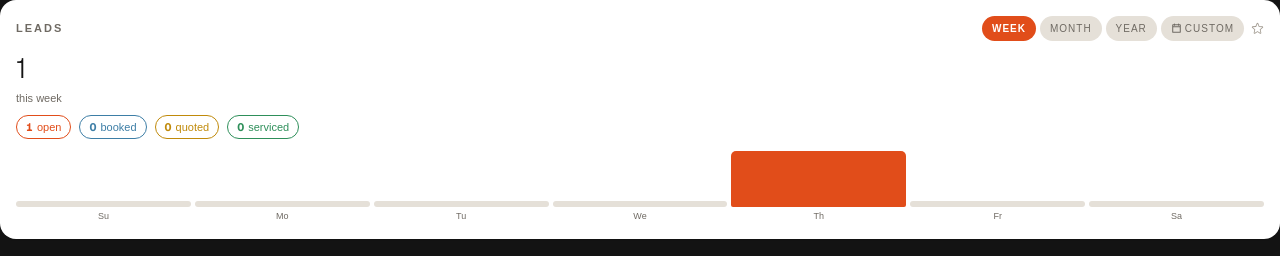
Scenario: TrendCard › headline caption follows the selected period
The image size is (1280, 256).
Expected: the text "this week" is shown, [16,92,62,104]
Click the button "MONTH".
click(1071, 28)  # box [1040,16,1102,41]
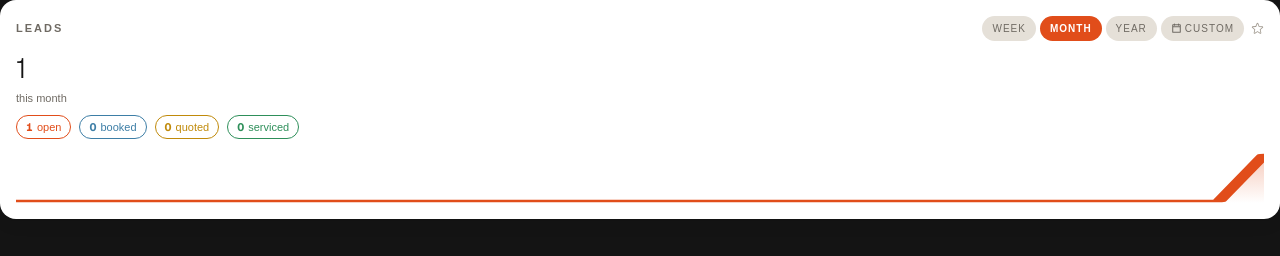
Result: the text "this month" is shown at [16,92,67,104]
Click the button "YEAR".
click(1131, 28)  # box [1106,16,1157,41]
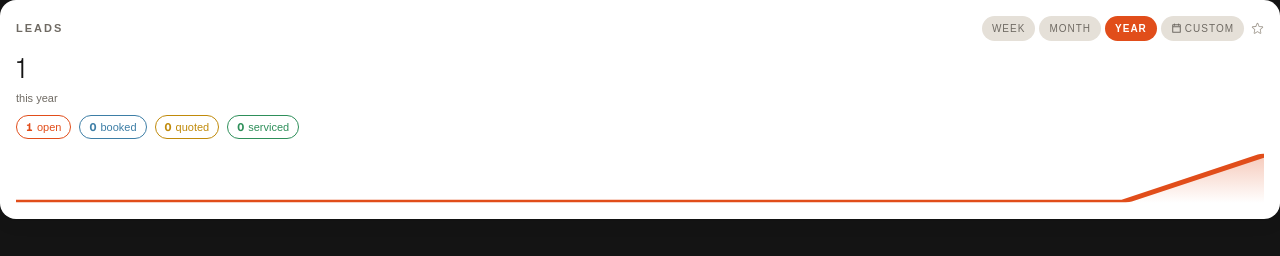
Result: the text "this year" is shown at [16,92,58,104]
